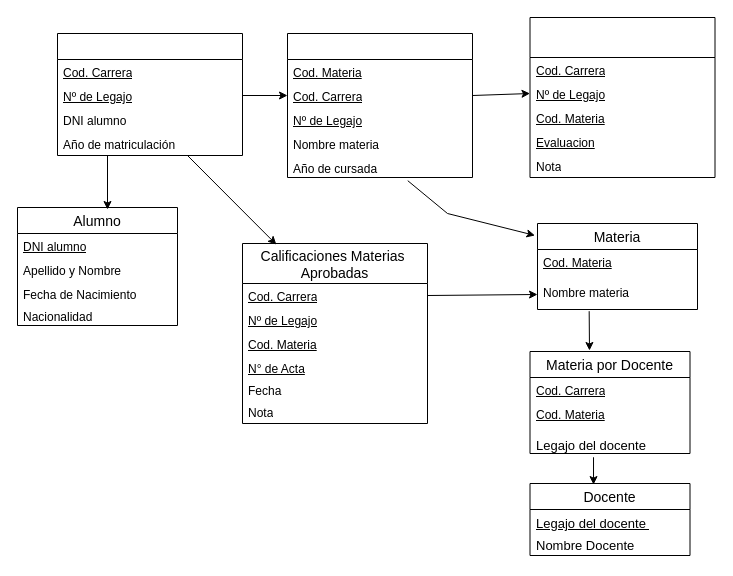
Some shapes in this 733 by 576 pixel diagram are drawn without their labels. Here are the shapes that lost their labels. From the top down, the box of each, then its label:
(56, 32, 242, 156): Estudios
(286, 32, 472, 178): Materias Regularizadas
(529, 16, 715, 178): Calificaciones Materias Regularizadas
